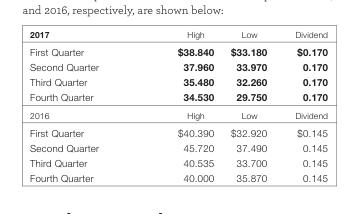table: (29, 28, 327, 183)
table column: (29, 28, 137, 183), (137, 28, 221, 183), (221, 28, 280, 183), (280, 28, 327, 183)
table column header: (29, 28, 327, 42)
table row: (29, 88, 327, 106), (29, 122, 327, 139), (29, 42, 327, 58), (29, 106, 327, 122), (29, 58, 327, 73), (29, 73, 327, 88), (29, 139, 327, 154), (29, 154, 327, 169), (29, 28, 327, 42), (29, 169, 327, 183)
